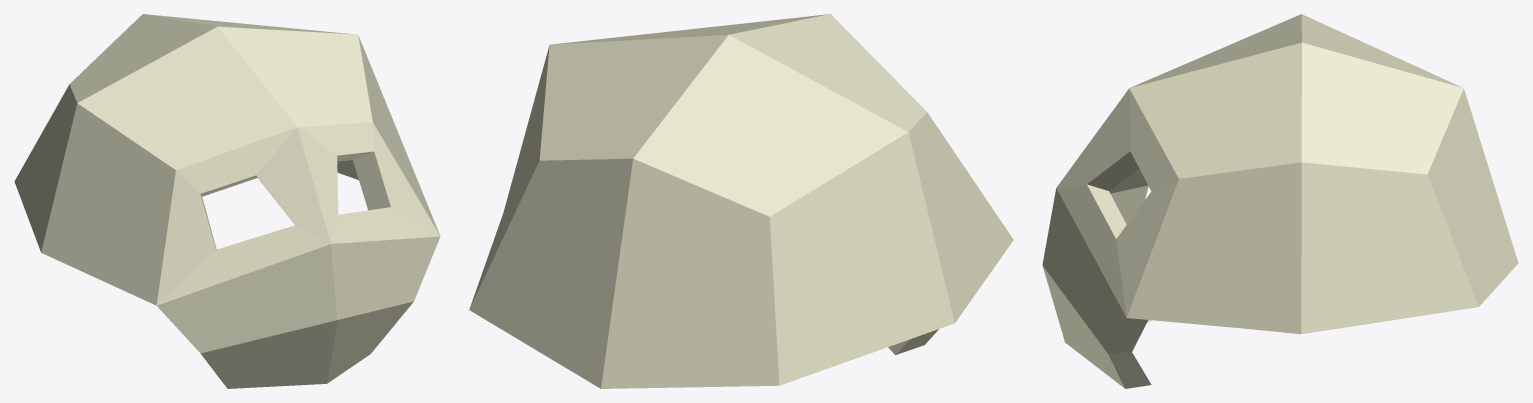
Rendered from bone3.fbx.
3 renders of one model, left to right at view 1: azimuth 30°, elevation 25°; view 2: azimuth 150°, elevation 25°; view 3: azimuth 270°, elevation 25°, orthographic. The views are drawn at different scales.
Visible parts, largest first — view 1: bone3; view 2: bone3; view 3: bone3.
Boxes of the visible parts, x1=… form: bone3: x1=14, y1=14, x2=440, y2=388; bone3: x1=469, y1=14, x2=1013, y2=388; bone3: x1=1042, y1=14, x2=1518, y2=388.
Bounding box in the file's own units: 37.11 × 28.78 × 40.01.
